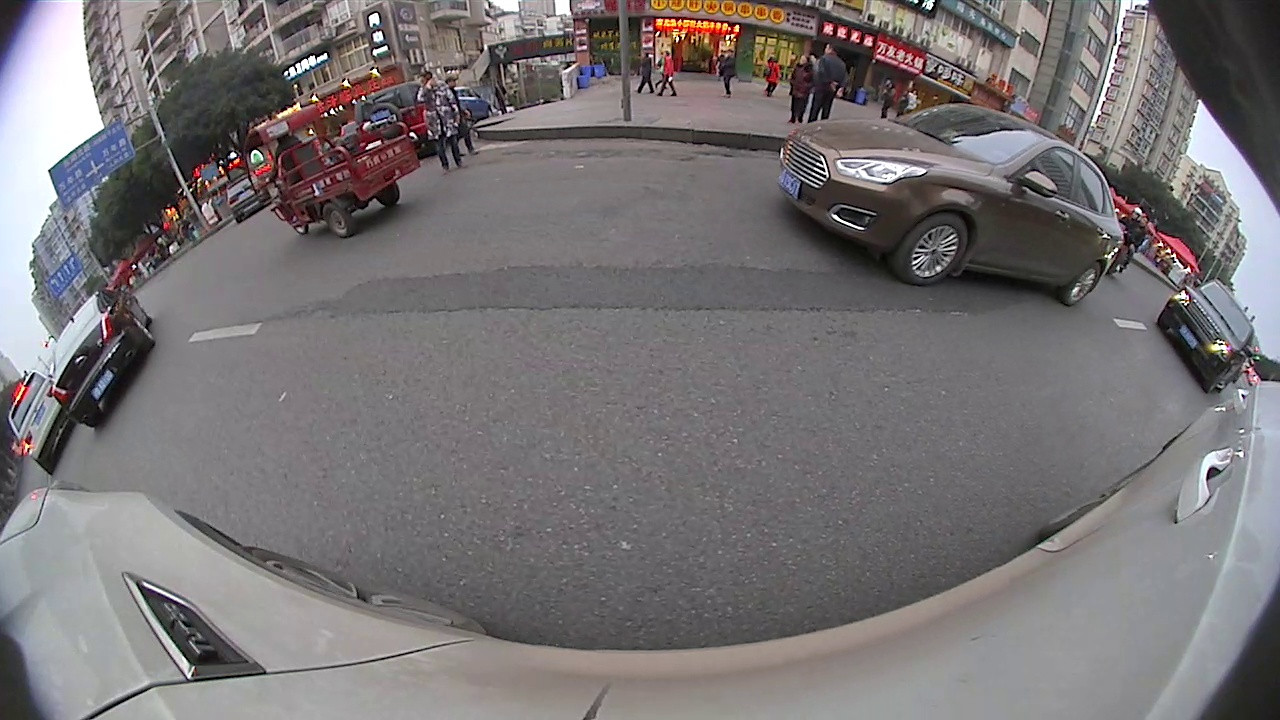car: (779, 100, 1127, 311), (43, 285, 160, 426), (1154, 276, 1260, 396), (1, 363, 74, 478)
front: (895, 211, 972, 290)
person: (416, 65, 457, 174)
rear: (1063, 259, 1105, 311), (321, 201, 354, 241)
rider: (240, 102, 423, 238)
